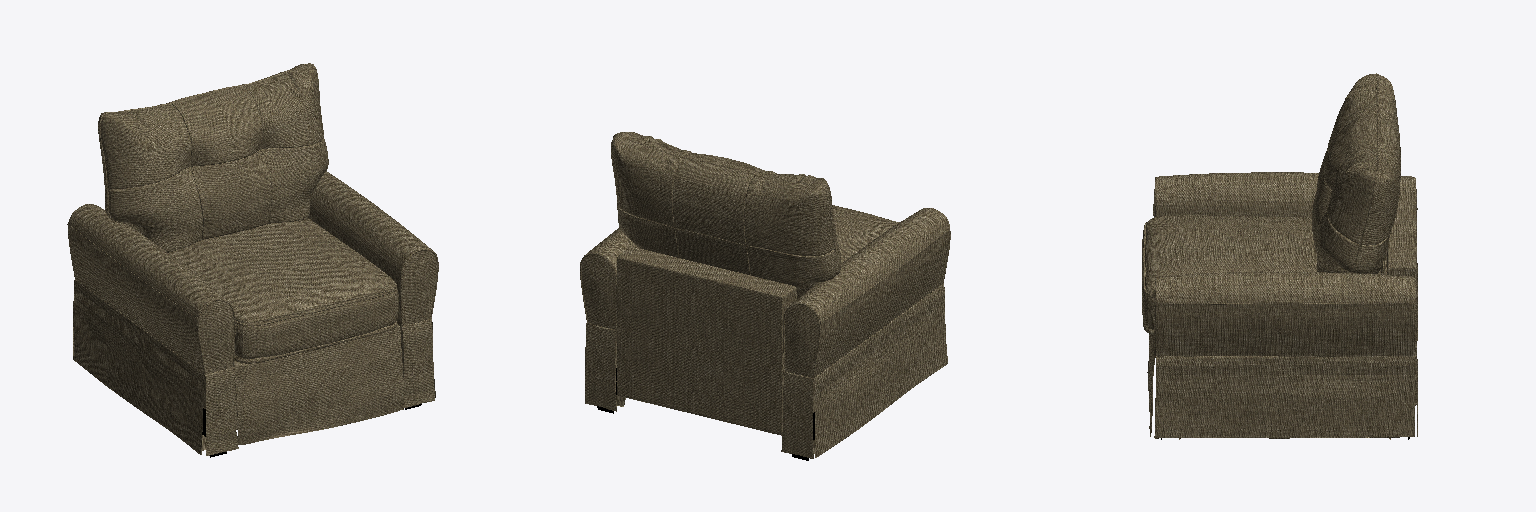
3 renders of one model, left to right at view 1: azimuth 30°, elevation 25°; view 2: azimuth 150°, elevation 25°; view 3: azimuth 270°, elevation 25°, orthographic.
Parts seen in each view (by area): view 1: not_clear_obj_0_v6; view 2: not_clear_obj_0_v6; view 3: not_clear_obj_0_v6.
Boxes of the visible parts, box(x1,y1,x2,y2) form: not_clear_obj_0_v6: box(67, 63, 438, 455); not_clear_obj_0_v6: box(580, 132, 950, 458); not_clear_obj_0_v6: box(1142, 73, 1417, 439).
Size of the model in its own units: 86.36 by 88.9 by 83.83.
Materials: 2 (1 with a texture image).